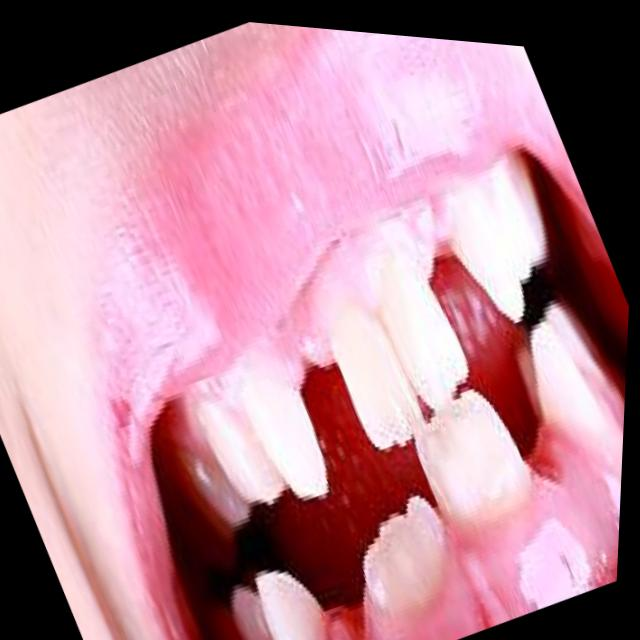hypodontia: (371, 208, 525, 396), (480, 326, 613, 509), (244, 319, 394, 472), (270, 551, 399, 640)
